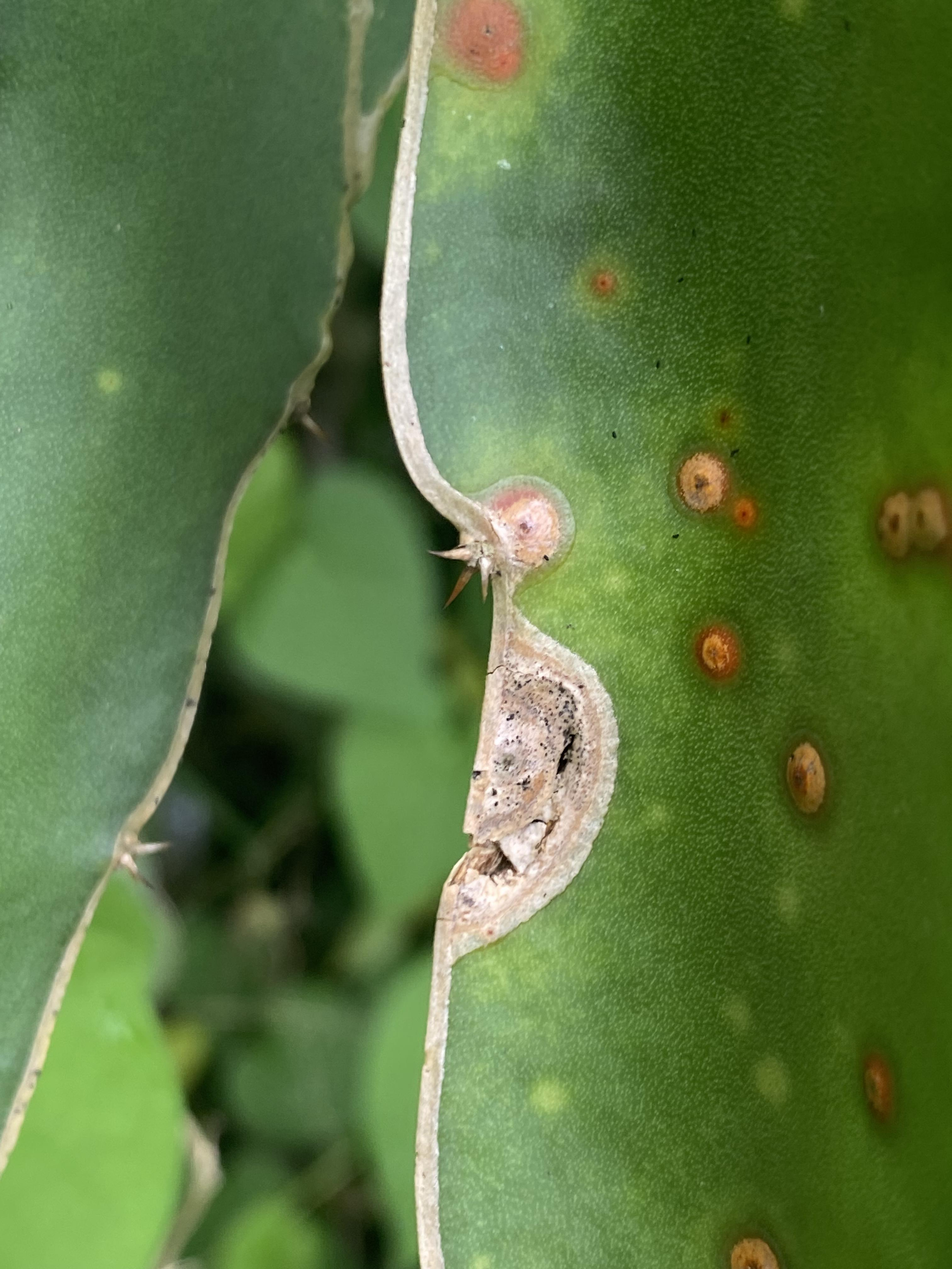stemcanker: (435, 602, 626, 964), (435, 1, 532, 88), (484, 481, 572, 572), (874, 483, 952, 561), (671, 448, 735, 517), (783, 739, 832, 819), (689, 620, 744, 686), (858, 1057, 904, 1121), (583, 268, 620, 301), (732, 494, 762, 533)
